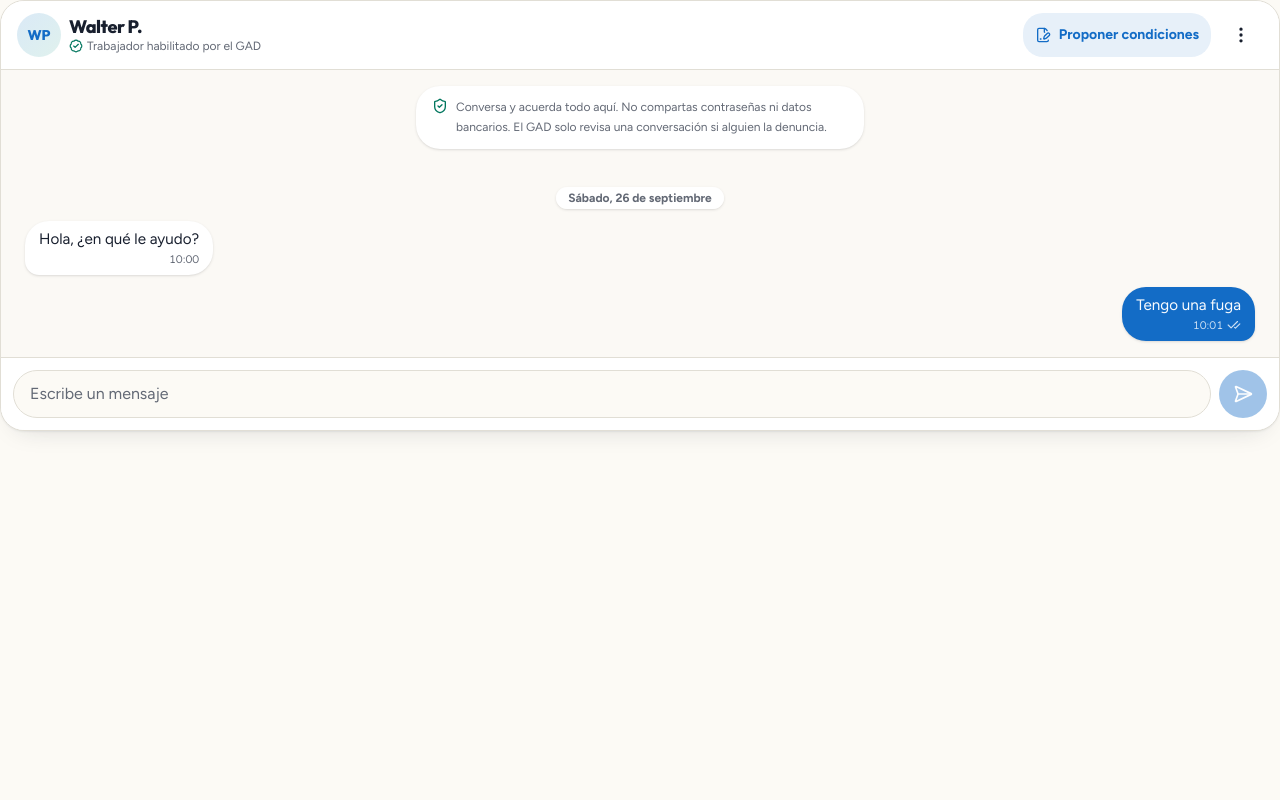
Test case: ChatThread › ofrece proponer condiciones solo si se puede y abre el formulario
Click the button "Proponer condiciones" at (1117,35), box top-left (1023, 13), bottom-right (1211, 57)
(page scrolled)
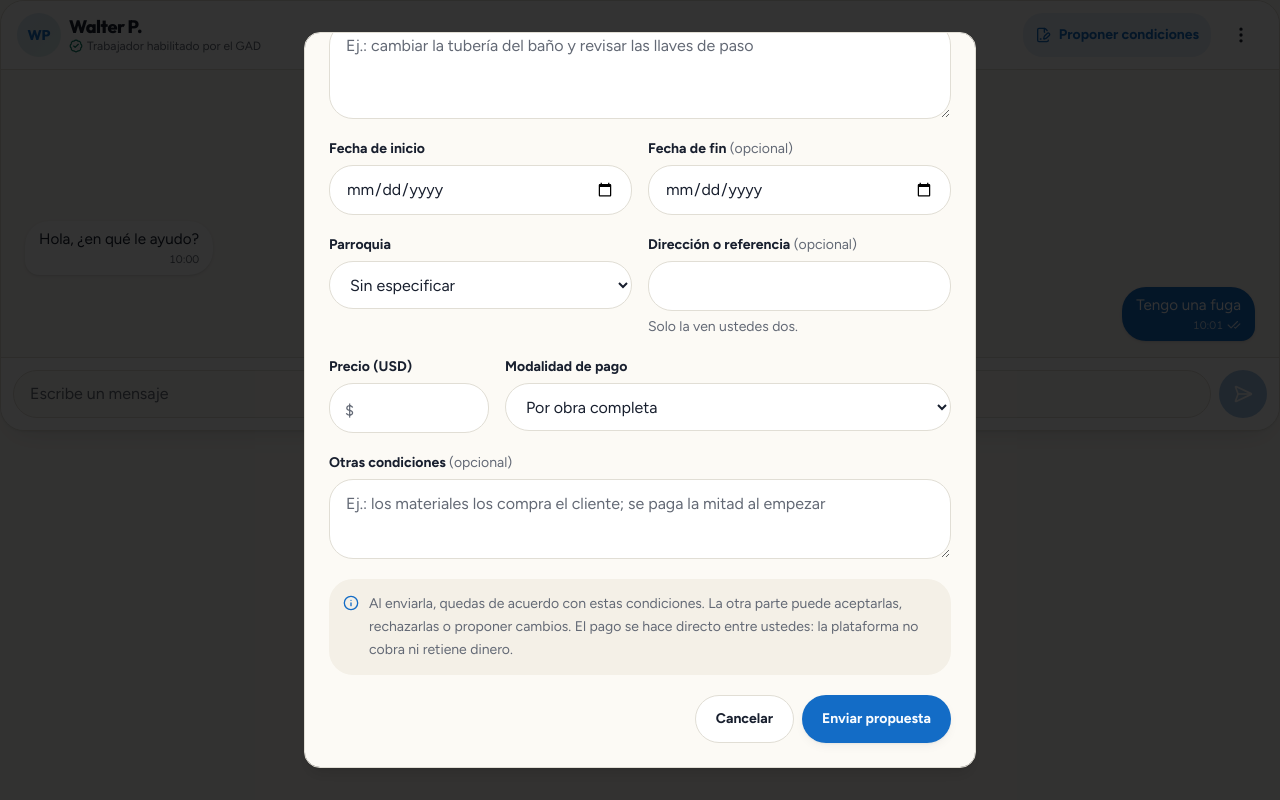
Check: the text box labelled "¿Qué trabajo se hará?" is shown, box top-left (329, 32), bottom-right (951, 119)
Check: the button "Enviar propuesta" is shown, box top-left (802, 695), bottom-right (951, 743)
